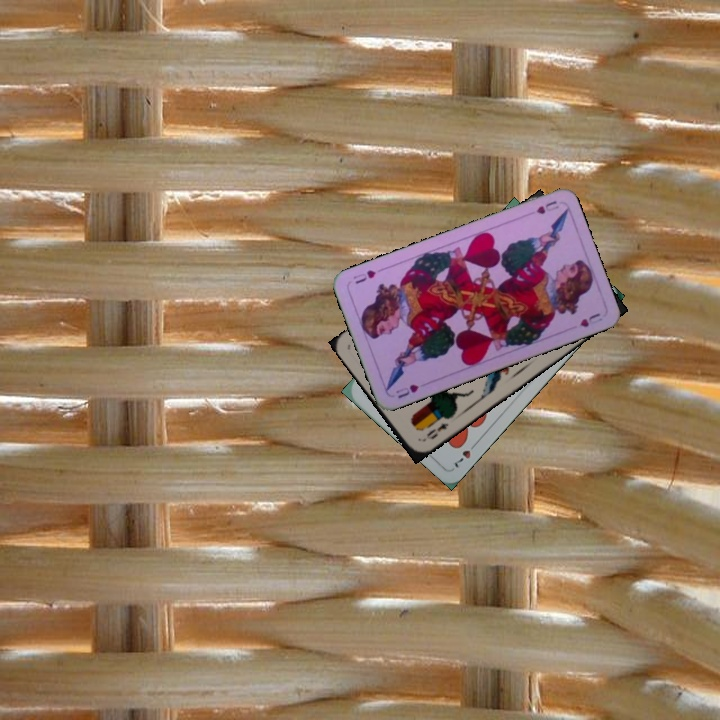EO: (419, 418, 451, 444)
H7: (450, 438, 481, 470)
HU: (523, 196, 562, 219), (391, 380, 421, 401)
